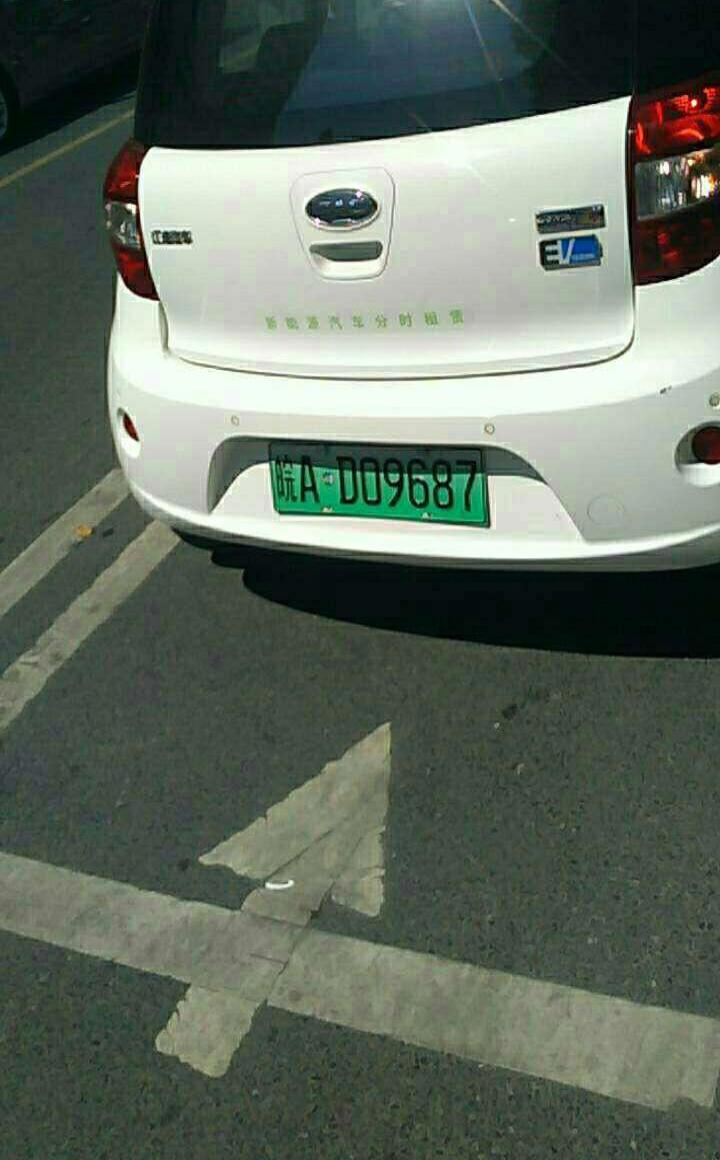car_id: (273, 446, 496, 529)
